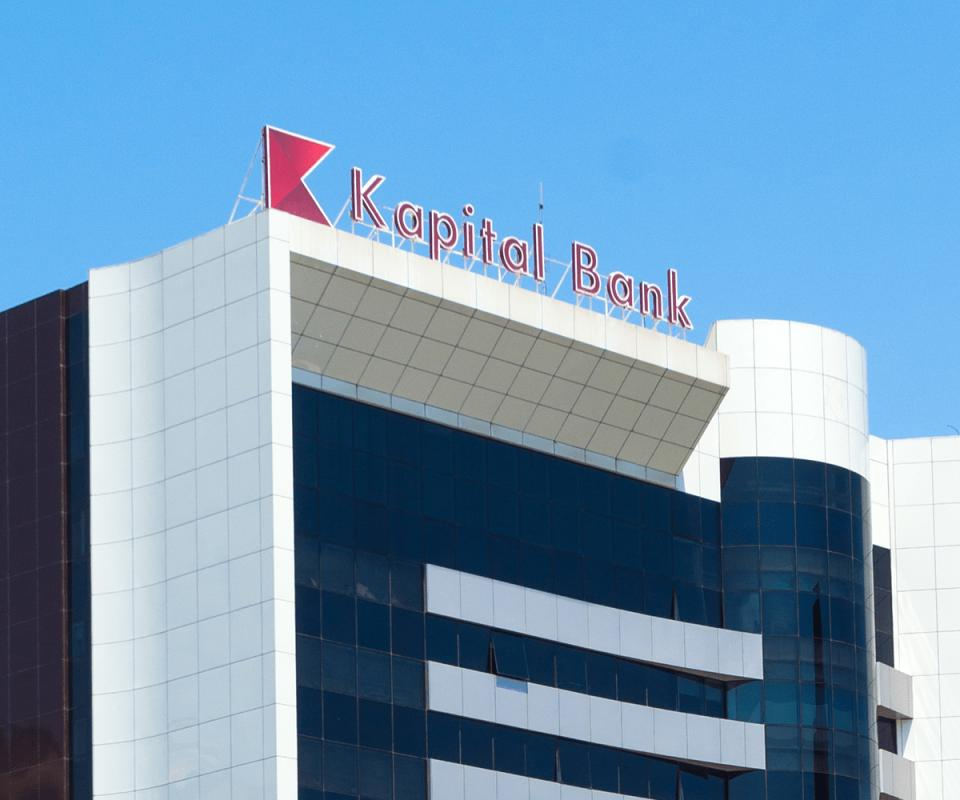Kapital Bank: (256, 122, 340, 229)
